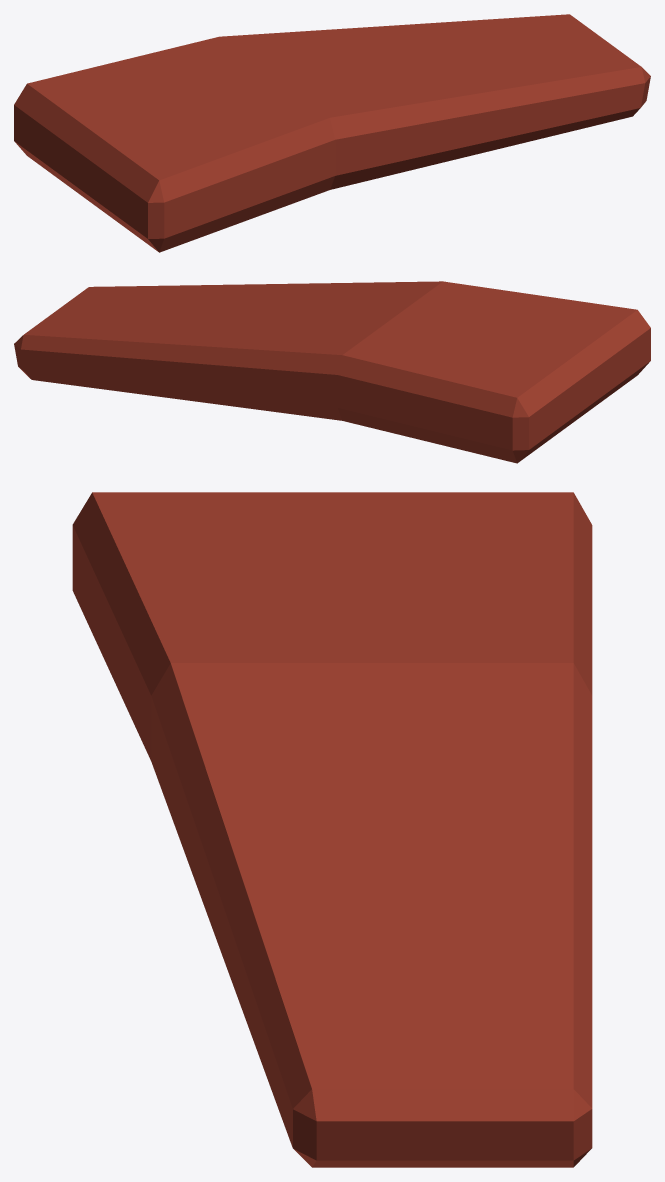
The model's file is Personal_Vehicle_03_Wings_Left_Red.fbx.
The picture shows the model from 3 angles, top to bottom: view 1: azimuth 30°, elevation 25°; view 2: azimuth 150°, elevation 25°; view 3: azimuth 270°, elevation 25°; orthographic projection. The views are drawn at different scales.
Parts seen in each view (by area): view 1: Personal_Vehicle_03_Wings_Left_Red; view 2: Personal_Vehicle_03_Wings_Left_Red; view 3: Personal_Vehicle_03_Wings_Left_Red.
Boxes of the visible parts, left/top/right/bottom form: Personal_Vehicle_03_Wings_Left_Red: left=14, top=14, right=650, bottom=252; Personal_Vehicle_03_Wings_Left_Red: left=14, top=281, right=650, bottom=463; Personal_Vehicle_03_Wings_Left_Red: left=72, top=492, right=592, bottom=1167.
Size of the model in its own units: 76.65 by 14.31 by 33.49.
Materials: 1 (1 with a texture image).
